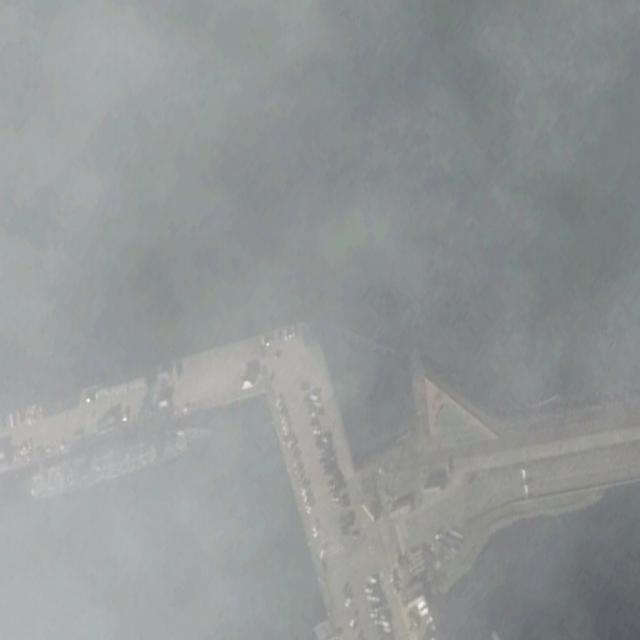Other Ship: (26, 414, 217, 504)
